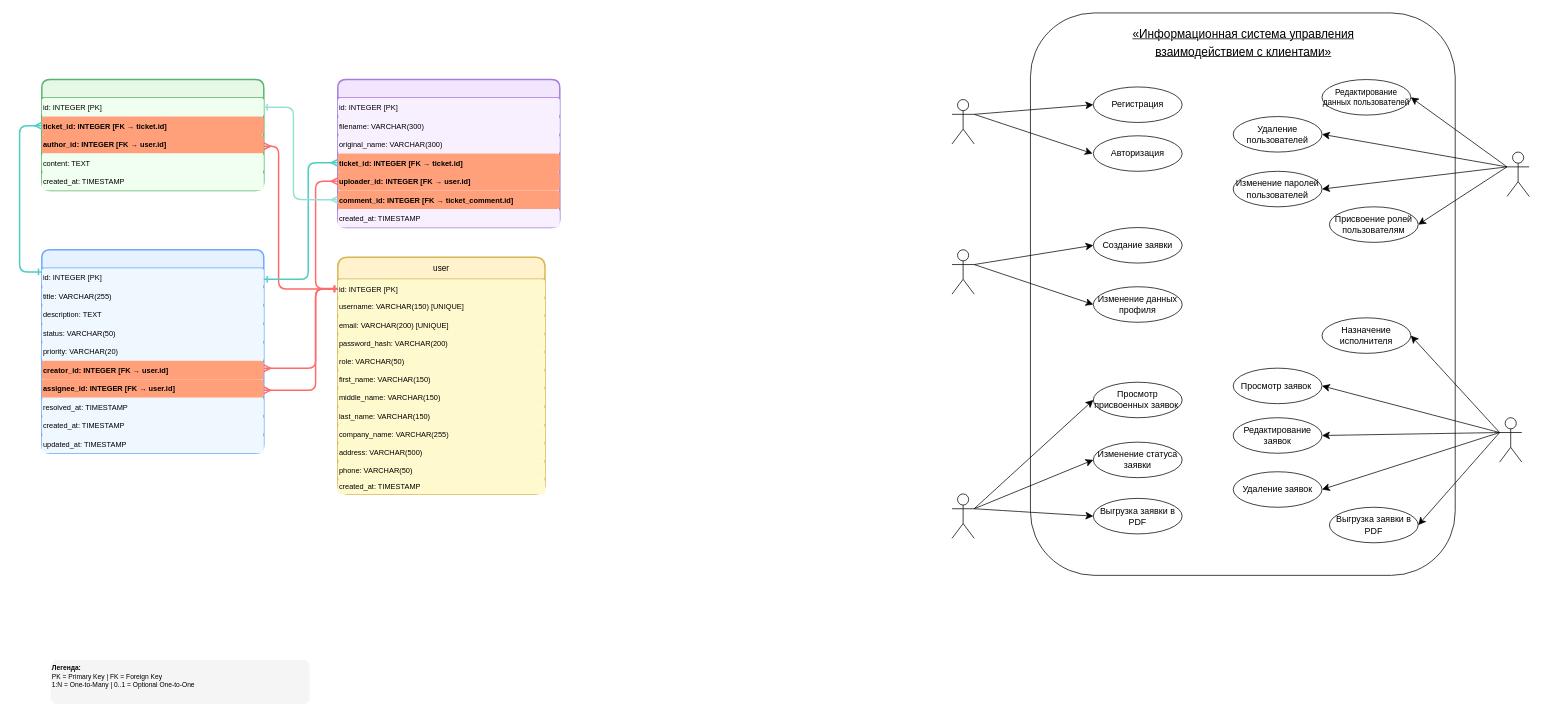
Image size: 1563x717. Some labels were removed from this diagram. Each missing label, with the box of its shape:
attachment: (337, 78, 560, 228)
ticket: (41, 249, 264, 454)
ticket_comment: (41, 78, 264, 191)
Авторизованный пользователь: (951, 249, 974, 294)
Администратор: (1506, 151, 1529, 196)
Исполнитель: (951, 493, 974, 538)
Менеджер: (1499, 417, 1522, 462)
Неавторизованный пользователь: (951, 99, 974, 144)
